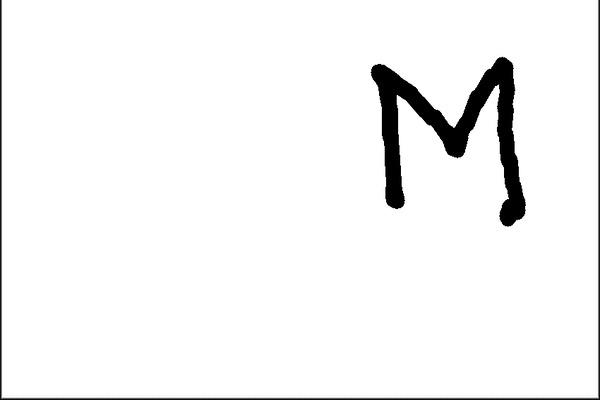M: (357, 56, 537, 223)
